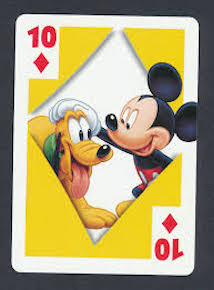TenOfDiamonds: (9, 16, 198, 275)
